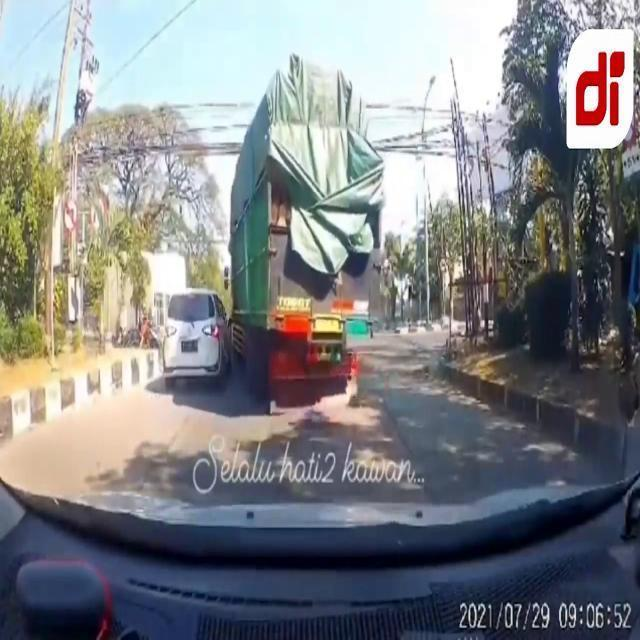accident: (158, 54, 386, 416)
